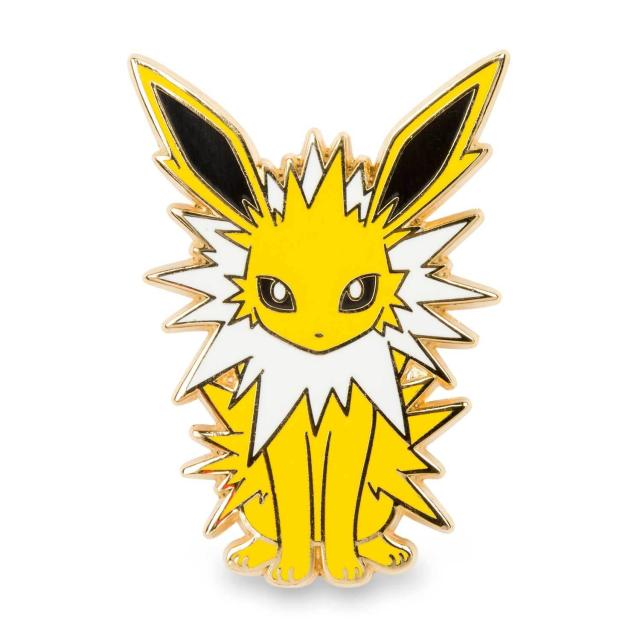Jolteon: (123, 51, 518, 594)
